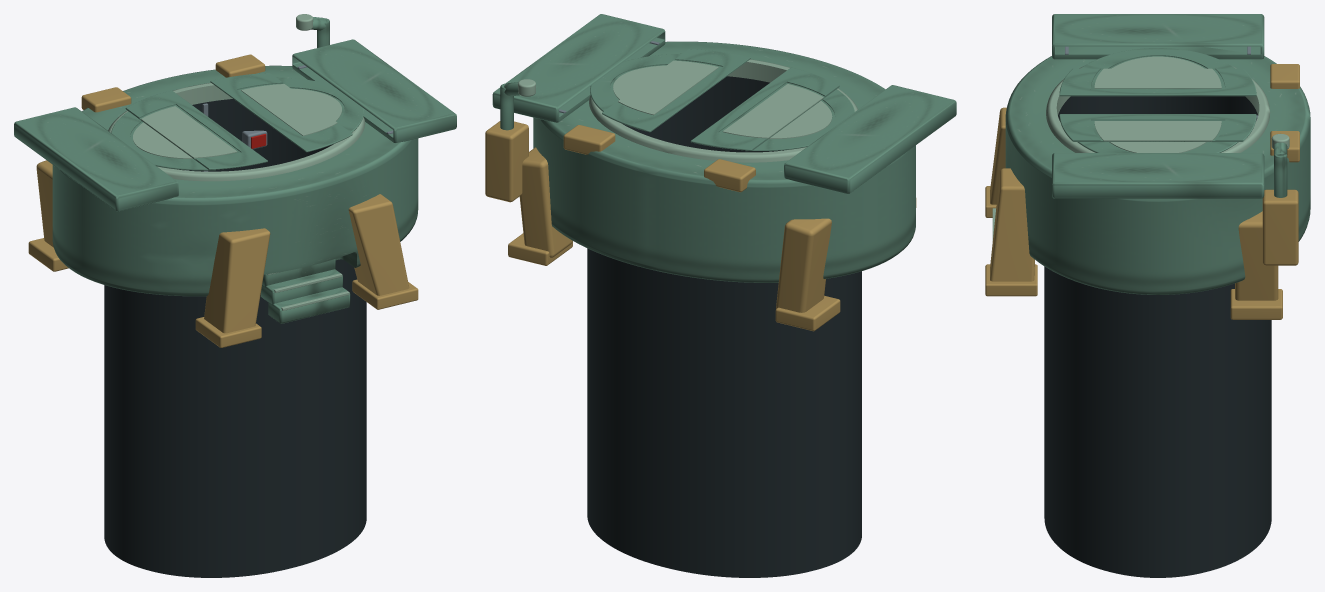
Rendered from descriptor-04.glb.
The picture shows the model from 3 angles, left to right: view 1: azimuth 30°, elevation 25°; view 2: azimuth 150°, elevation 25°; view 3: azimuth 270°, elevation 25°; orthographic projection. The views are drawn at different scales.
Parts seen in each view (by area): view 1: RI10 shaft wall below ground, RI10 fixed oval body, RI10 enclosed side cover cassette, RI10 enclosed side cover cassette.001, RI10 front splayed brass buttress, RI10 front splayed brass buttress.001, RI10 green aperture coaming, RI10 left cover shell inner segment, RI10 right cover shell inner segment, RI10 recessed green cover field inner segment, RI10 recessed green cover field inner segment.001, RI10 front access step 0 (+12 smaller); view 2: RI10 shaft wall below ground, RI10 fixed oval body, RI10 enclosed side cover cassette, RI10 enclosed side cover cassette.001, RI10 rear brass load-bearing buttress, RI10 green aperture coaming, RI10 rear brass load-bearing buttress.001, RI10 left cover shell inner segment, RI10 right equipment mast foundation, RI10 right cover shell inner segment, RI10 recessed green cover field inner segment, RI10 recessed green cover field inner segment.001 (+8 smaller); view 3: RI10 shaft wall below ground, RI10 fixed oval body, RI10 enclosed side cover cassette.001, RI10 enclosed side cover cassette, RI10 front splayed brass buttress.001, RI10 left cover shell inner segment, RI10 right cover shell inner segment, RI10 right equipment mast foundation, RI10 recessed green cover field inner segment, RI10 recessed green cover field inner segment.001, RI10 rear brass load-bearing buttress.001, RI10 green aperture coaming (+10 smaller).
Part boxes in pixels (left/top/right/bottom): RI10 shaft wall below ground: left=104, top=99, right=366, bottom=577; RI10 fixed oval body: left=52, top=65, right=418, bottom=296; RI10 enclosed side cover cassette: left=14, top=107, right=178, bottom=211; RI10 enclosed side cover cassette.001: left=292, top=39, right=456, bottom=142; RI10 front splayed brass buttress: left=204, top=228, right=270, bottom=333; RI10 front splayed brass buttress.001: left=348, top=194, right=409, bottom=295; RI10 green aperture coaming: left=108, top=82, right=365, bottom=181; RI10 left cover shell inner segment: left=125, top=90, right=267, bottom=169; RI10 right cover shell inner segment: left=210, top=73, right=352, bottom=152; RI10 recessed green cover field inner segment: left=141, top=106, right=237, bottom=158; RI10 recessed green cover field inner segment.001: left=241, top=84, right=337, bottom=135; RI10 front access step 0: left=268, top=287, right=350, bottom=323; RI10 shaft wall below ground: left=587, top=76, right=861, bottom=577; RI10 fixed oval body: left=533, top=41, right=915, bottom=282; RI10 enclosed side cover cassette: left=784, top=85, right=956, bottom=193; RI10 enclosed side cover cassette.001: left=492, top=14, right=665, bottom=122; RI10 rear brass load-bearing buttress: left=776, top=218, right=831, bottom=312; RI10 green aperture coaming: left=589, top=59, right=857, bottom=162; RI10 rear brass load-bearing buttress.001: left=519, top=147, right=572, bottom=257; RI10 left cover shell inner segment: left=690, top=67, right=839, bottom=150; RI10 right equipment mast foundation: left=485, top=121, right=528, bottom=202; RI10 right cover shell inner segment: left=602, top=49, right=750, bottom=132; RI10 recessed green cover field inner segment: left=722, top=84, right=823, bottom=138; RI10 recessed green cover field inner segment.001: left=618, top=60, right=718, bottom=115; RI10 shaft wall below ground: left=1044, top=96, right=1271, bottom=577; RI10 fixed oval body: left=1005, top=56, right=1310, bottom=294; RI10 enclosed side cover cassette.001: left=1052, top=153, right=1264, bottom=198; RI10 enclosed side cover cassette: left=1052, top=14, right=1264, bottom=59; RI10 front splayed brass buttress.001: left=990, top=168, right=1034, bottom=281; RI10 left cover shell inner segment: left=1059, top=68, right=1256, bottom=96; RI10 right cover shell inner segment: left=1059, top=114, right=1256, bottom=141; RI10 right equipment mast foundation: left=1262, top=189, right=1298, bottom=265; RI10 recessed green cover field inner segment: left=1094, top=68, right=1221, bottom=88; RI10 recessed green cover field inner segment.001: left=1094, top=121, right=1221, bottom=141; RI10 rear brass load-bearing buttress.001: left=1235, top=211, right=1278, bottom=300; RI10 green aperture coaming: left=1046, top=66, right=1270, bottom=152.
Size of the model in its own units: 2.7 by 3.31 by 2.17.
7 materials, 2 textured.
